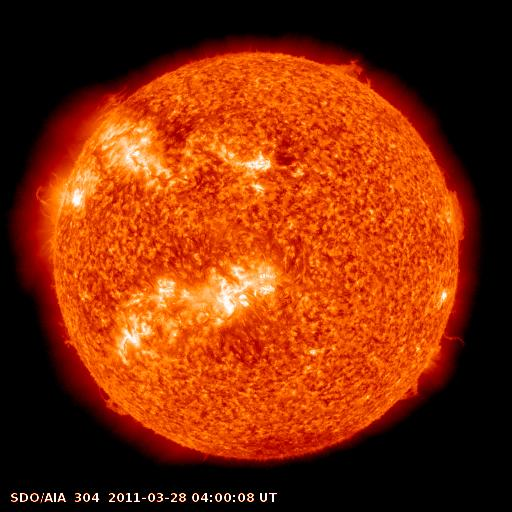prominence: (439, 179, 486, 247), (324, 48, 379, 96), (93, 76, 143, 124), (89, 379, 139, 423), (389, 366, 427, 408), (434, 322, 472, 355), (51, 315, 80, 356)
